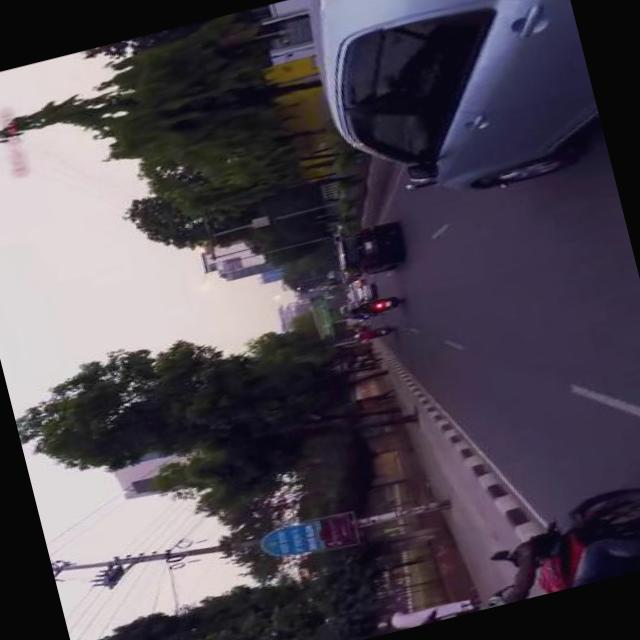car: (298, 0, 607, 227), (329, 221, 404, 283), (344, 284, 372, 307)
motorcycle: (475, 476, 640, 606), (364, 295, 402, 315), (367, 326, 392, 340)
